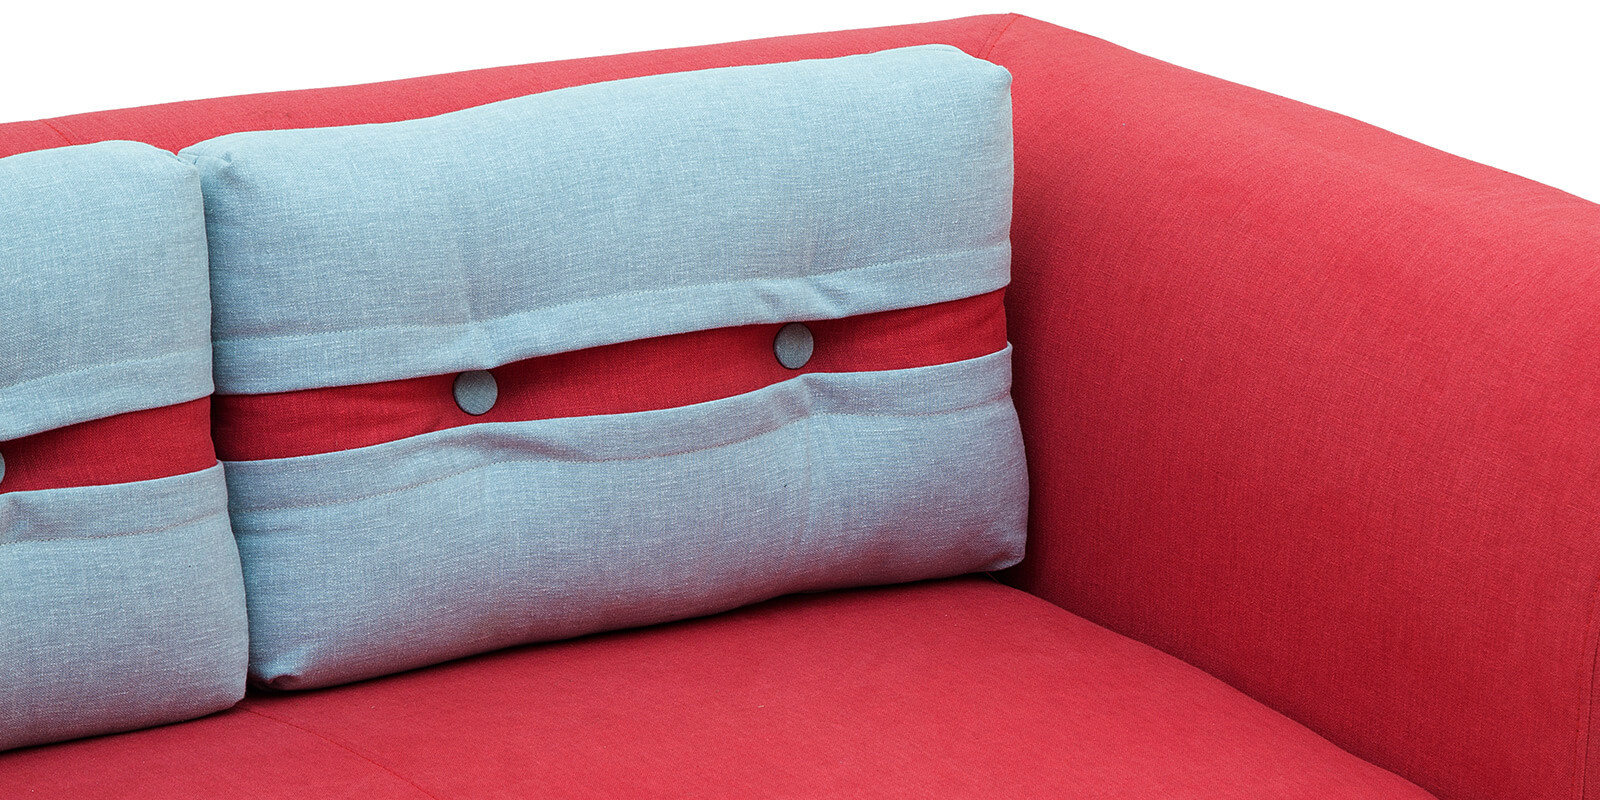Iowa Three Seater Sofa in Crimson Red Colour by Furnitech: (2, 6, 1600, 800)
